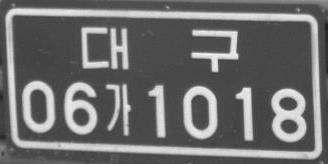0: (182, 84, 218, 140), (21, 79, 55, 134)
1: (230, 86, 263, 140), (143, 84, 175, 138)
6: (63, 79, 98, 135)
8: (270, 88, 307, 142)
가: (104, 82, 132, 135)
대구_D: (80, 26, 238, 73)
